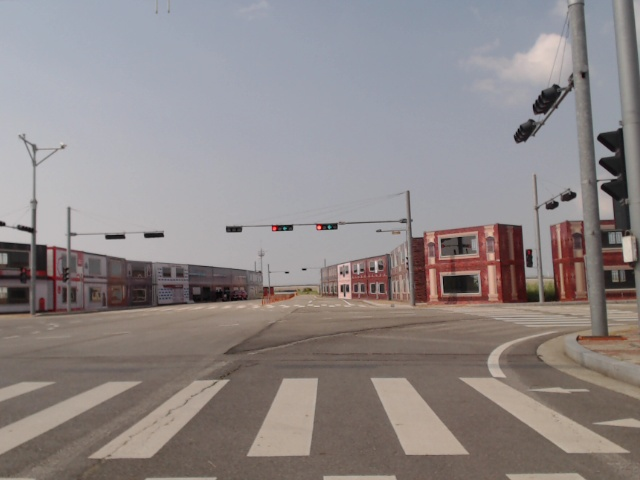left_green_4: (272, 225, 293, 231), (316, 224, 337, 230)
